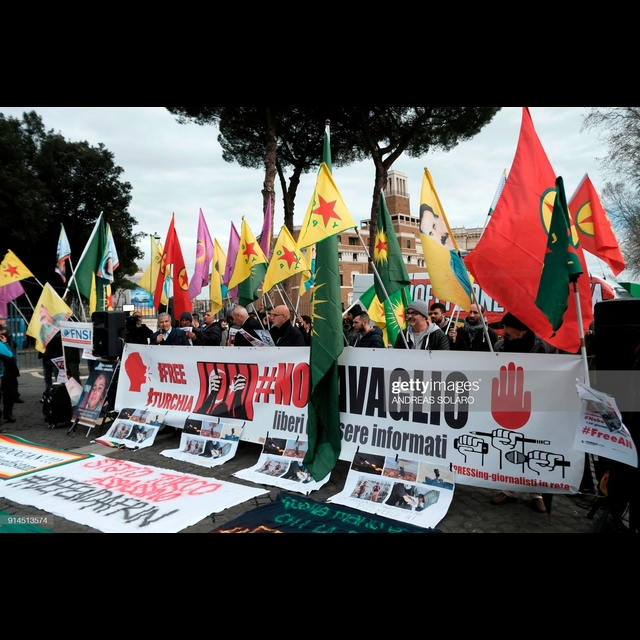APO: (416, 205, 456, 250)
KCK: (372, 187, 411, 298)
PKK: (575, 176, 621, 243), (179, 265, 189, 291)
YPG: (304, 158, 350, 239), (271, 234, 304, 282), (236, 239, 262, 268)
